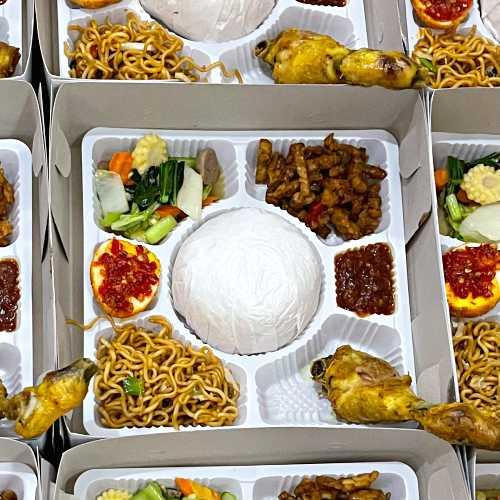buah_sayur_lainnya: (106, 158, 208, 213)
buah_sayur_vitA: (341, 261, 389, 296)
daging: (334, 360, 394, 407), (278, 35, 321, 71)
kacang_legume: (267, 152, 380, 203)
makanan_berpati: (206, 230, 295, 318), (103, 360, 204, 411), (80, 33, 154, 70)
telur: (100, 246, 158, 310)
